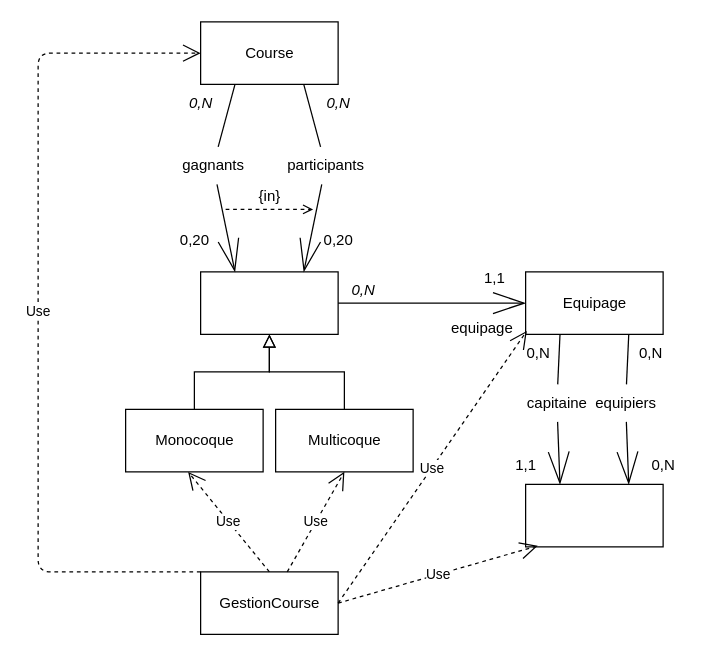
This 710x656 diagram has some shape labels left out. The box of each missing label's shape, as (x1, y1, x2, y2) in pixels:
Bateau: (199, 271, 338, 334)
Equipier: (524, 483, 663, 547)
